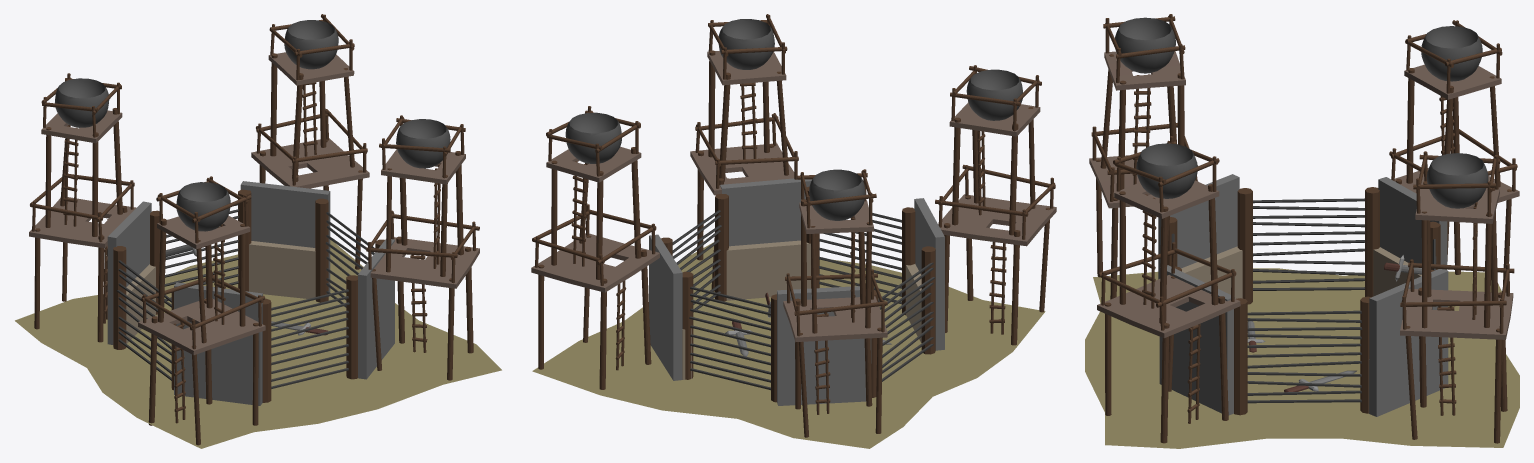
The model's file is BrawlPit.fbx.
3 views of the same model, side by side, from view 1: azimuth 30°, elevation 25°; view 2: azimuth 150°, elevation 25°; view 3: azimuth 270°, elevation 25° (orthographic). The views are drawn at different scales.
Visible parts, largest first — view 1: BrawlPit; view 2: BrawlPit; view 3: BrawlPit.
Part boxes in pixels (x1,y1,x2,y2): BrawlPit: (15,14,501,448); BrawlPit: (531,14,1056,448); BrawlPit: (1085,14,1519,448).
Bounding box in the file's own units: 28.24 × 20.55 × 28.16.
